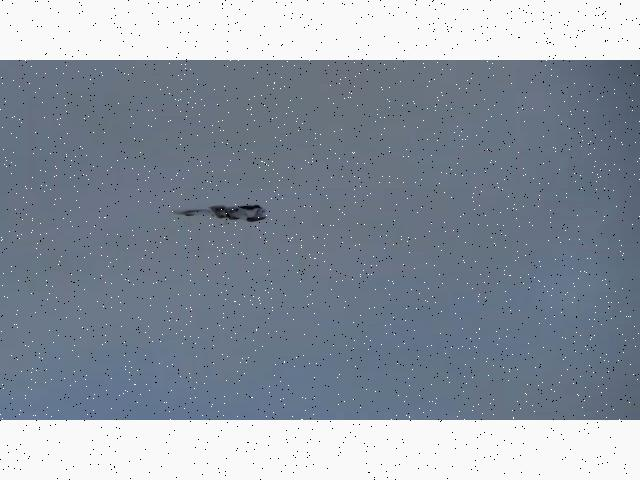Anti-Drone: (170, 204, 268, 224)
